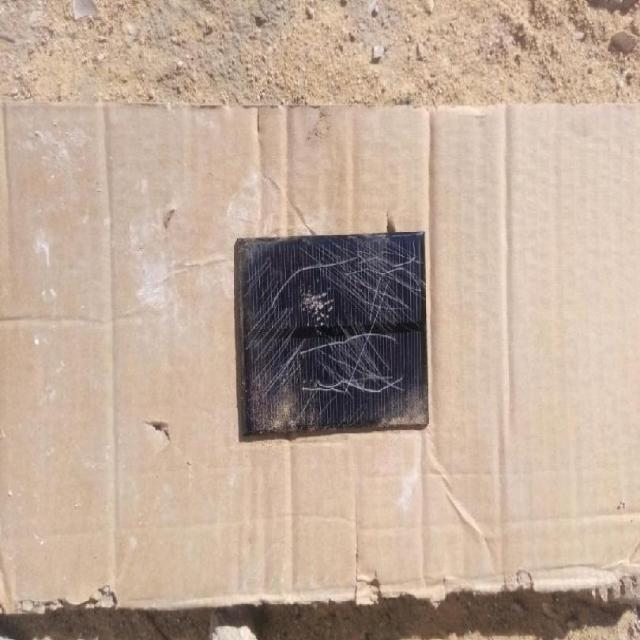faulty: (243, 233, 431, 434)
